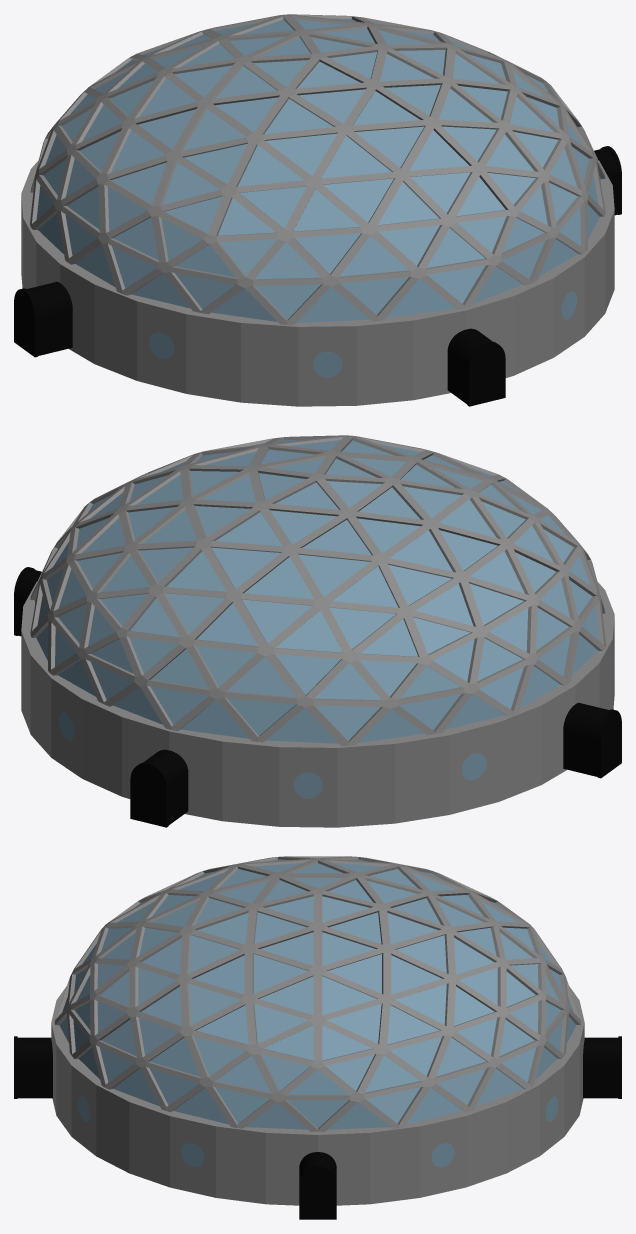
Rendered from hab large hollow.fbx.
The picture shows the model from 3 angles, top to bottom: view 1: azimuth 30°, elevation 25°; view 2: azimuth 150°, elevation 25°; view 3: azimuth 270°, elevation 25°; orthographic projection. The views are drawn at different scales.
Parts seen in each view (by area): view 1: Dome glass, Dome frame, body, connector.002, connector wall.001, connector, connector wall, connector.003; view 2: Dome glass, Dome frame, body, connector.002, connector wall.003, connector.001, connector wall, connector.003; view 3: Dome glass, Dome frame, body, connector.001, connector, connector wall.002, connector.003.
Boxes of the visible parts, x1,y1,x2,y2 form: Dome glass: (36, 18, 601, 322); Dome frame: (30, 14, 605, 324); body: (21, 160, 614, 406); connector.002: (27, 282, 72, 355); connector wall.001: (467, 341, 505, 406); connector: (447, 328, 491, 404); connector wall: (14, 288, 38, 357); connector.003: (594, 148, 618, 215); Dome glass: (34, 439, 599, 743); Dome frame: (30, 435, 605, 745); body: (21, 581, 614, 827); connector.002: (563, 703, 608, 776); connector wall.003: (130, 762, 168, 827); connector.001: (144, 749, 188, 825); connector wall: (597, 709, 621, 778); connector.003: (17, 569, 41, 636); Dome glass: (59, 859, 576, 1129); Dome frame: (54, 856, 581, 1131); body: (51, 986, 584, 1205); connector.001: (583, 1037, 618, 1098); connector: (17, 1037, 52, 1098); connector wall.002: (299, 1165, 336, 1219); connector.003: (299, 1152, 336, 1179).
Bounding box in the file's own units: 1619 × 594 × 1619.
